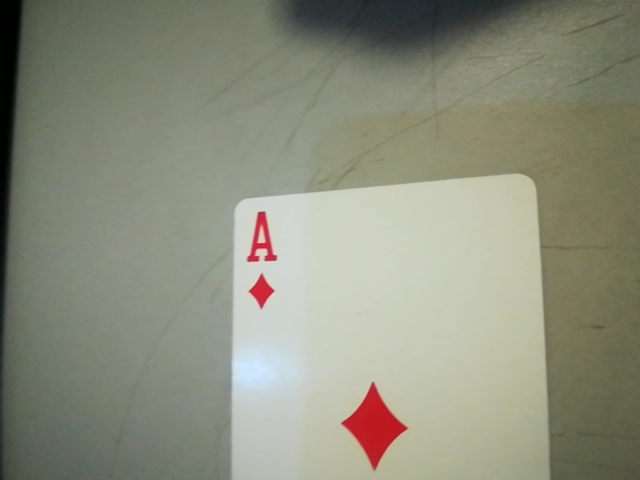fk a: (230, 204, 289, 316)
